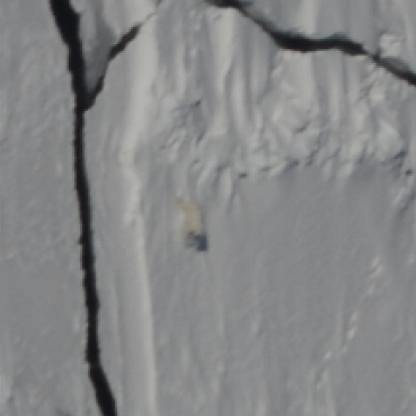polar-bear: (177, 197, 206, 246)
